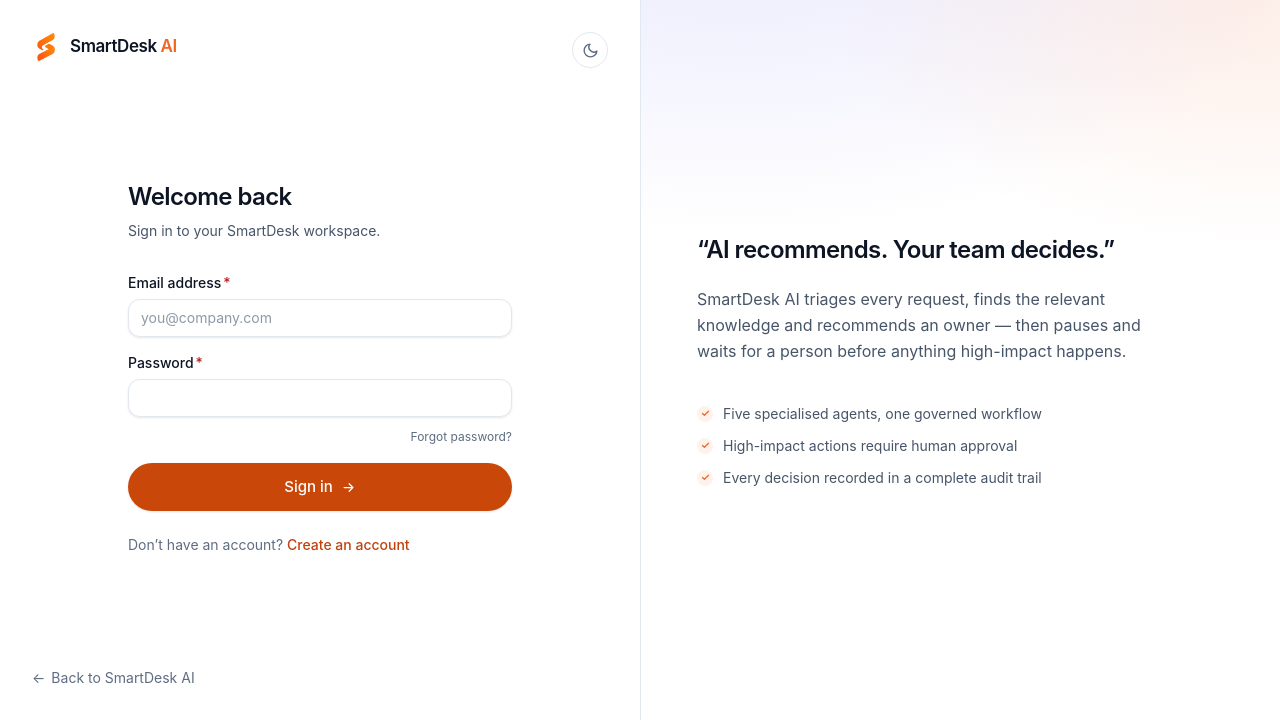
Scenario: Sign in page › surfaces the API error message when the credentials are wrong
In the field labelled "Email address*": (320, 318) [128,299,512,337], type "manager@smartdesk.local"
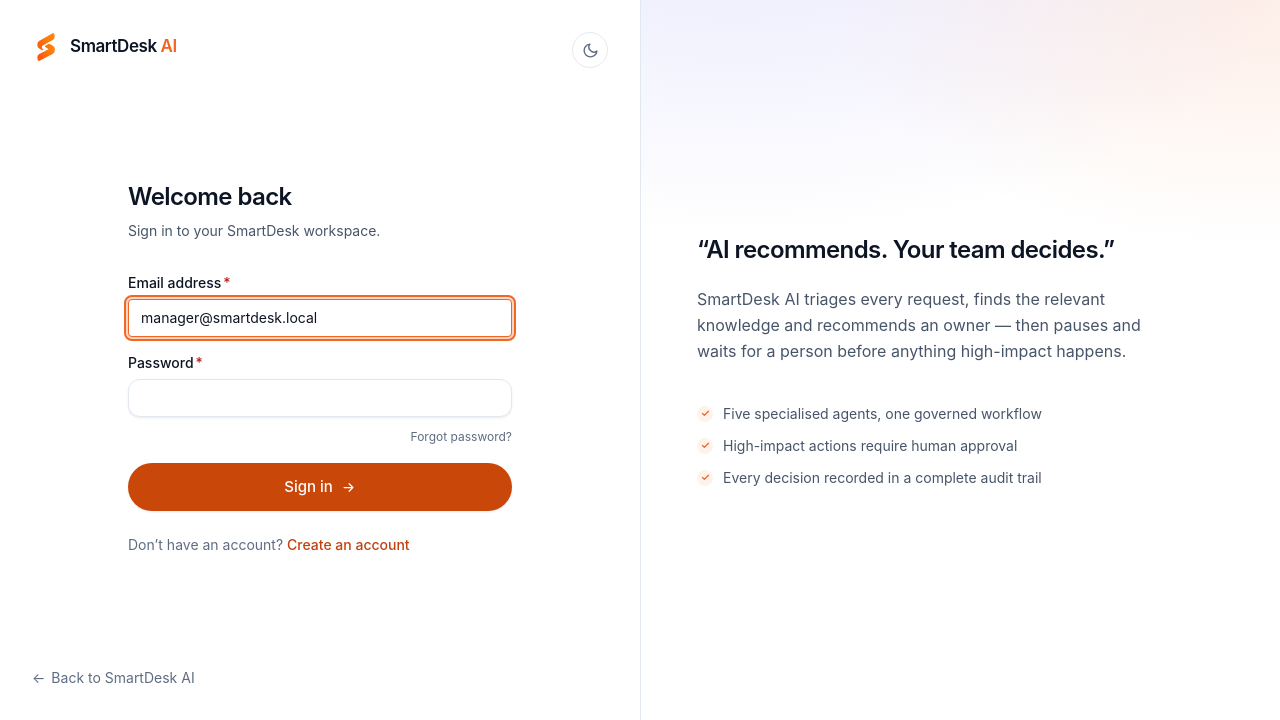
In the password field labelled "Password*": (320, 398) [128,379,512,417], type "wrong"
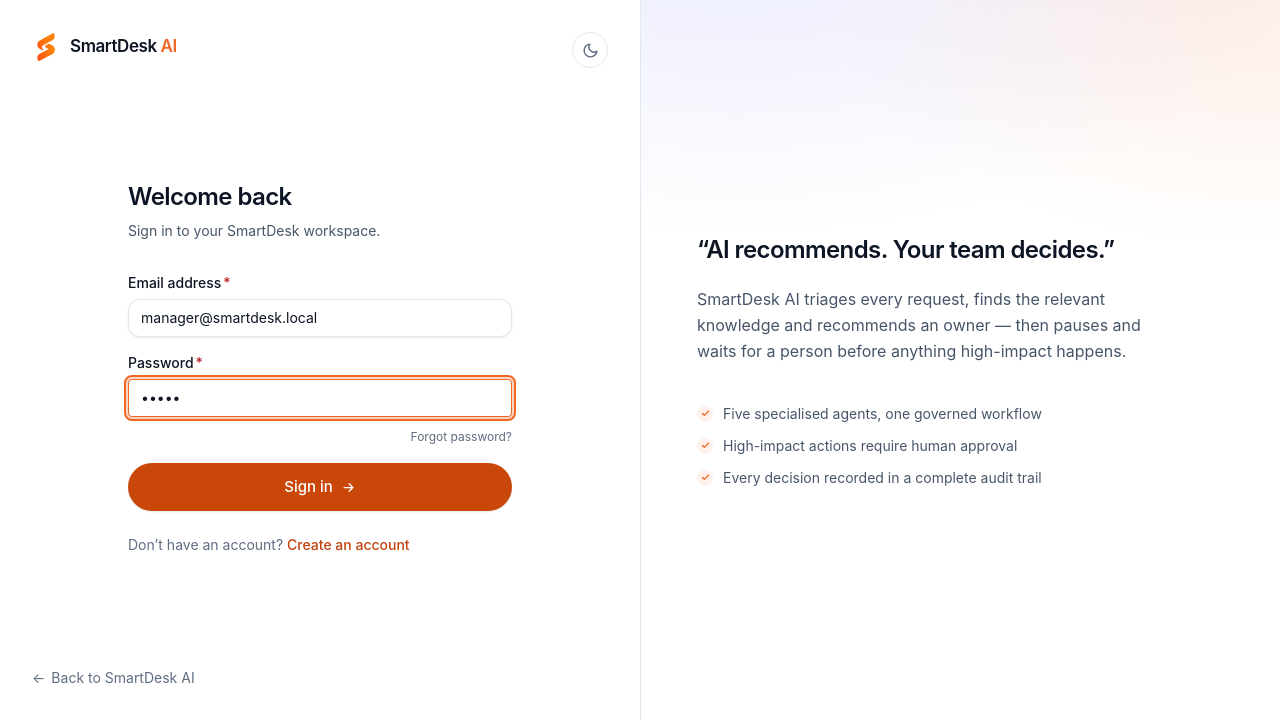
Click the button "Sign in": (320, 487) [128,463,512,511]
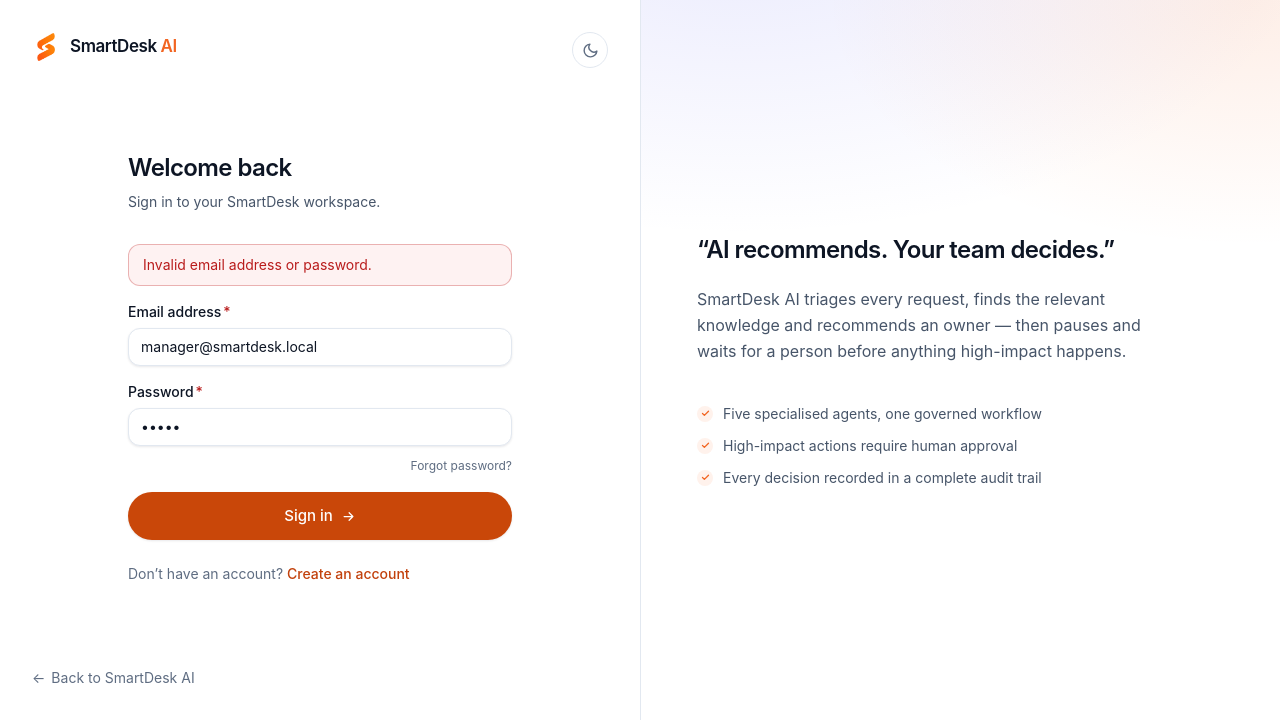
Result: the message shows "Invalid email address or password" at [143,256,372,273]
